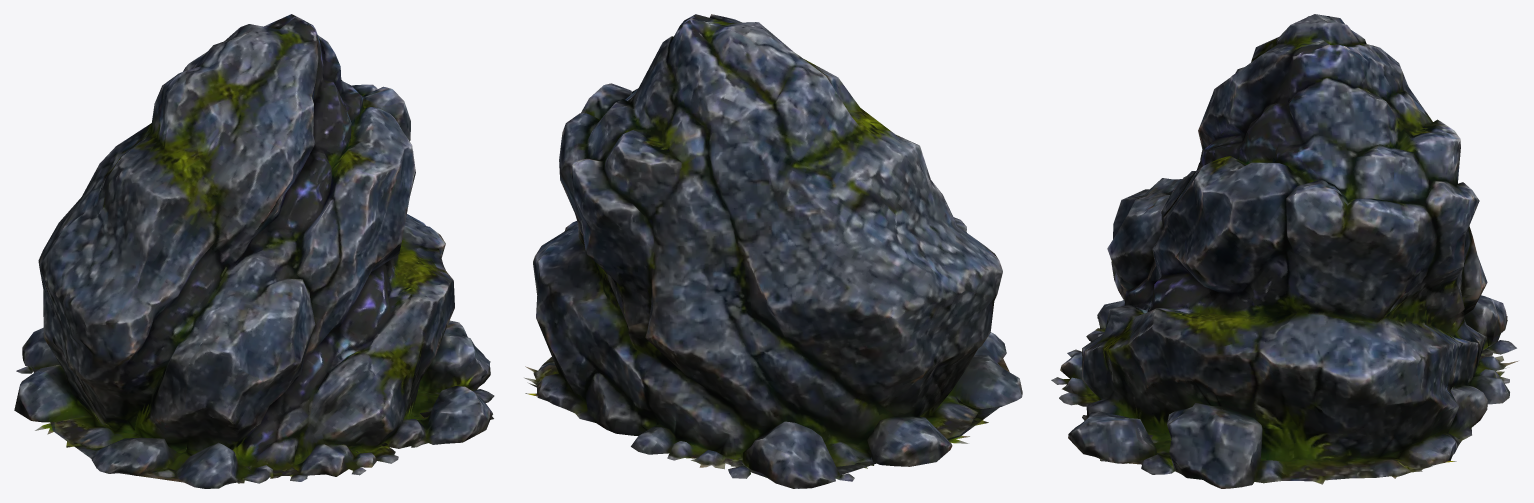
File: sterneisen-leer.glb
3 views of the same model, side by side, from view 1: azimuth 30°, elevation 25°; view 2: azimuth 150°, elevation 25°; view 3: azimuth 270°, elevation 25° (orthographic). The views are drawn at different scales.
Parts seen in each view (by area): view 1: baum; view 2: baum; view 3: baum.
Part boxes in pixels (bbox=[...]): baum: bbox=[14, 14, 494, 488]; baum: bbox=[524, 14, 1022, 488]; baum: bbox=[1051, 14, 1517, 488].
Size of the model in its own units: 1.59 by 1.3 by 1.49.
1 material, 1 textured.
